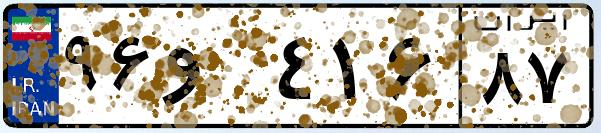1: (330, 28, 385, 110)
4: (270, 28, 330, 110)
6: (385, 28, 445, 110), (110, 28, 158, 98)
7: (525, 38, 570, 115)
8: (475, 38, 525, 113)
9: (57, 26, 110, 100)
و: (158, 20, 270, 120)
